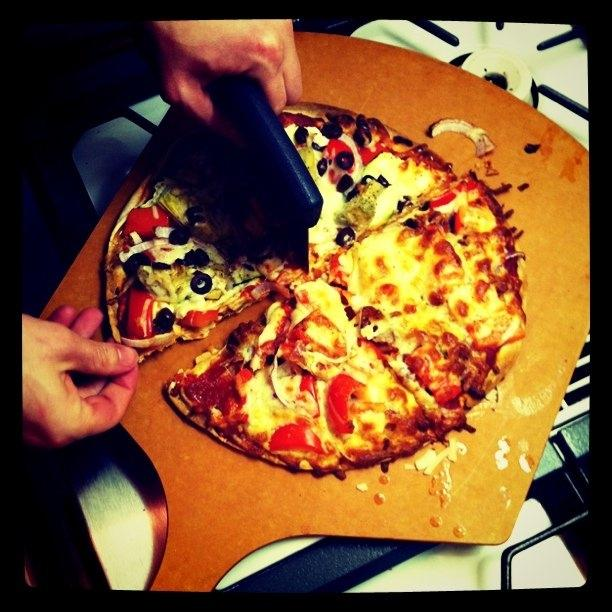onion: (429, 118, 496, 156), (269, 346, 295, 411), (120, 325, 182, 348), (338, 134, 364, 183), (118, 240, 154, 263), (155, 226, 175, 238), (504, 252, 526, 261)
